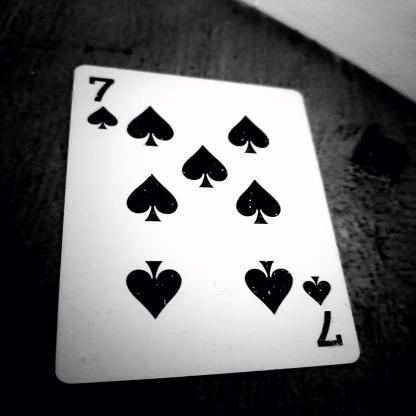7S: (303, 266, 358, 361), (74, 70, 127, 143)
